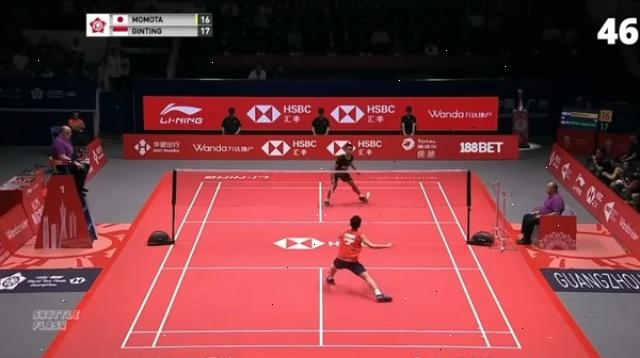Shuttlecock: (362, 189, 373, 200)
